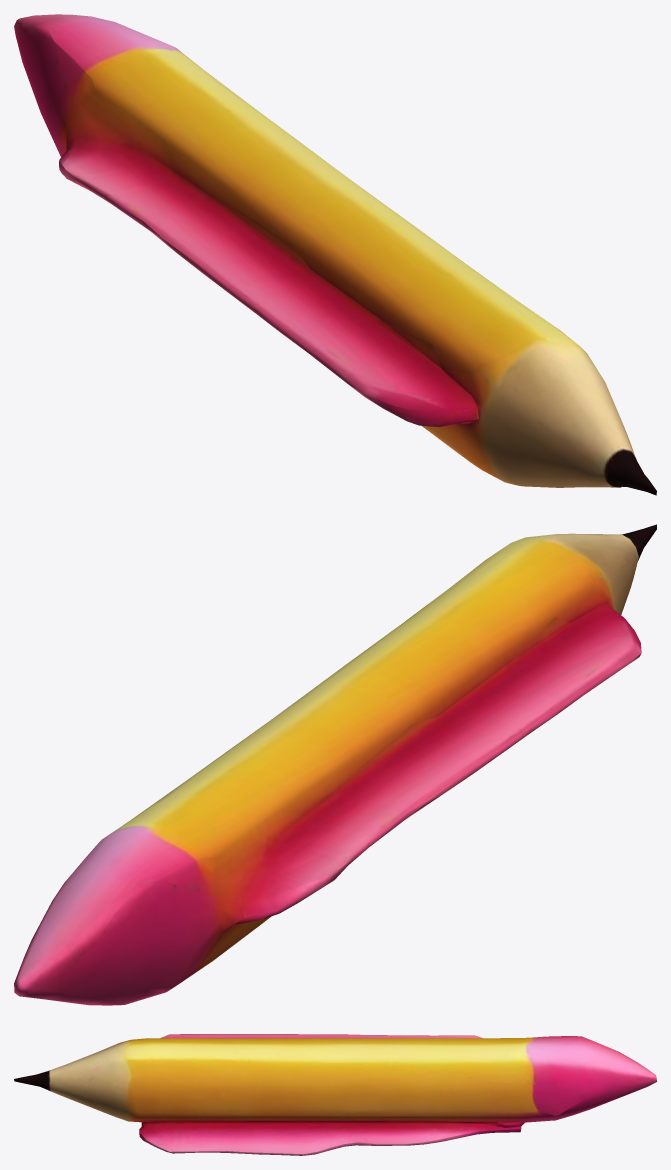
The model's file is m2GiantPencil.glb.
3 renders of one model, top to bottom at view 1: azimuth 30°, elevation 25°; view 2: azimuth 150°, elevation 25°; view 3: azimuth 270°, elevation 25°, orthographic. The views are drawn at different scales.
Parts seen in each view (by area): view 1: model; view 2: model; view 3: model.
Boxes of the visible parts, x1,y1,x2,y2 form: model: (14, 14, 656, 495); model: (14, 524, 656, 1005); model: (14, 1034, 656, 1155).
Size of the model in its own units: 0.4076 by 0.289 by 1.9.
1 material, 1 textured.
